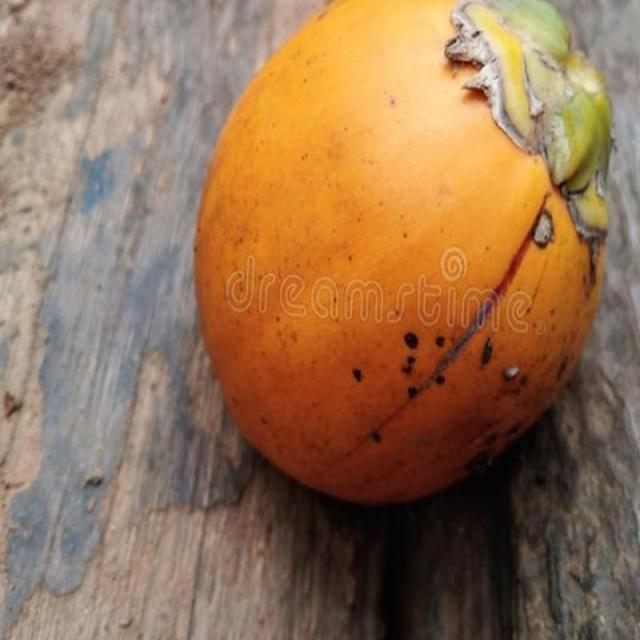good: (192, 0, 614, 509)
